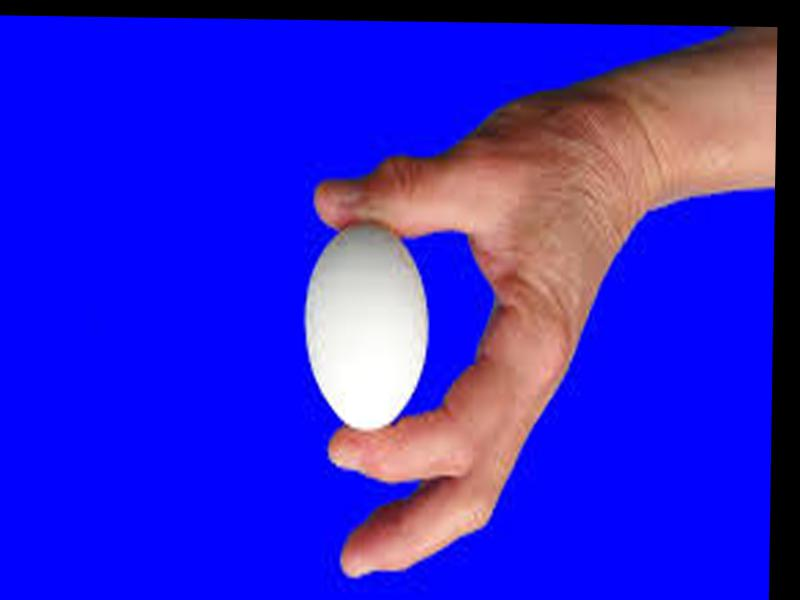Eggs: (304, 223, 429, 435)
